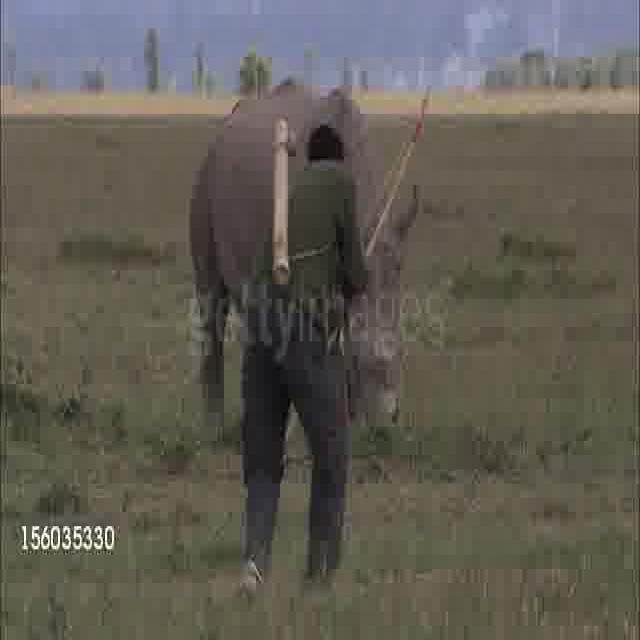poacher: (248, 204, 389, 616)
weapon: (271, 170, 309, 286)
